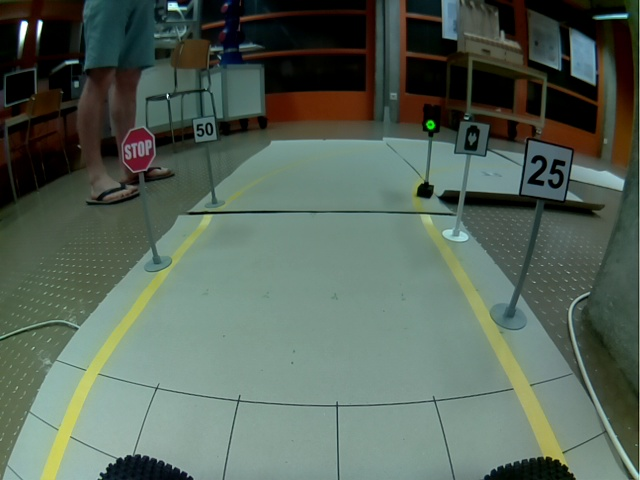battery: (454, 121, 490, 157)
speed25: (519, 137, 574, 202)
speed50: (193, 115, 219, 143)
stop: (121, 126, 156, 172)
trafficLightGreen: (422, 104, 441, 133)
